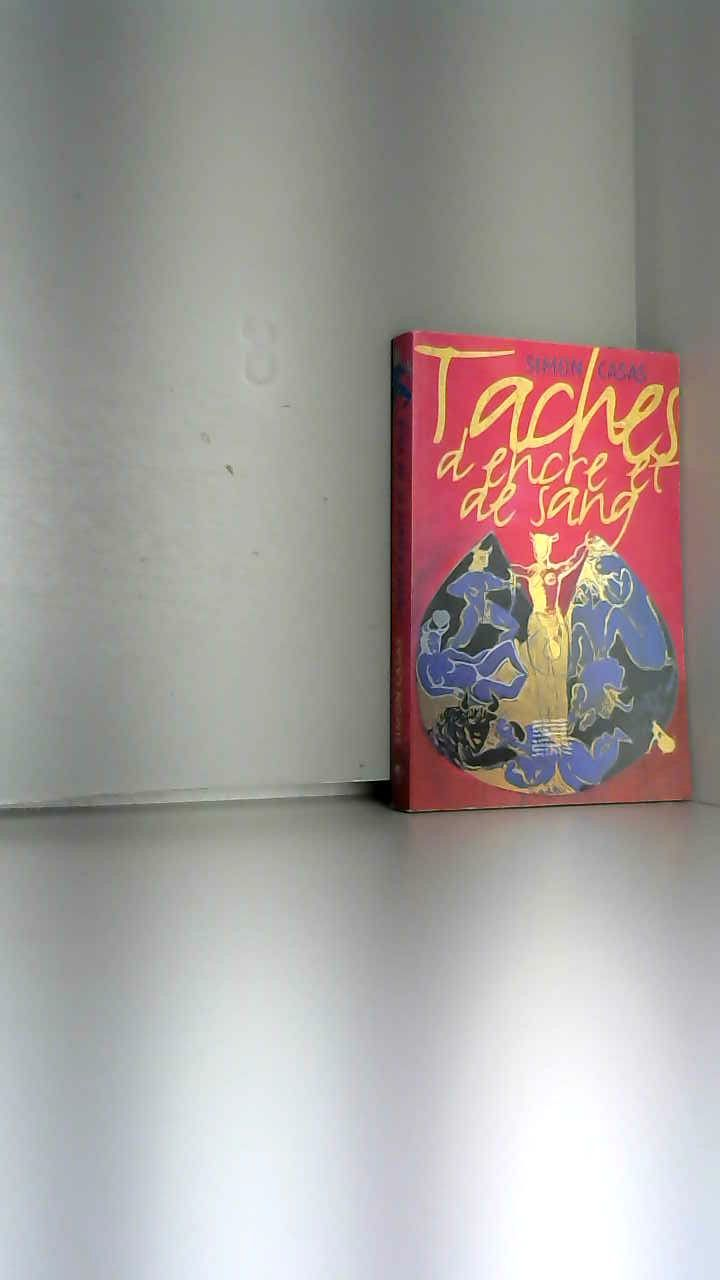book: (360, 300, 719, 830)
